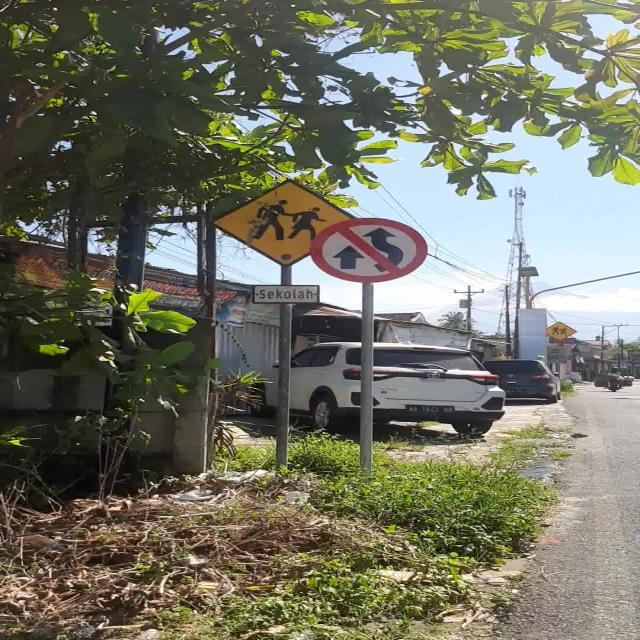Dilarang Mendahului: (310, 218, 428, 283)
